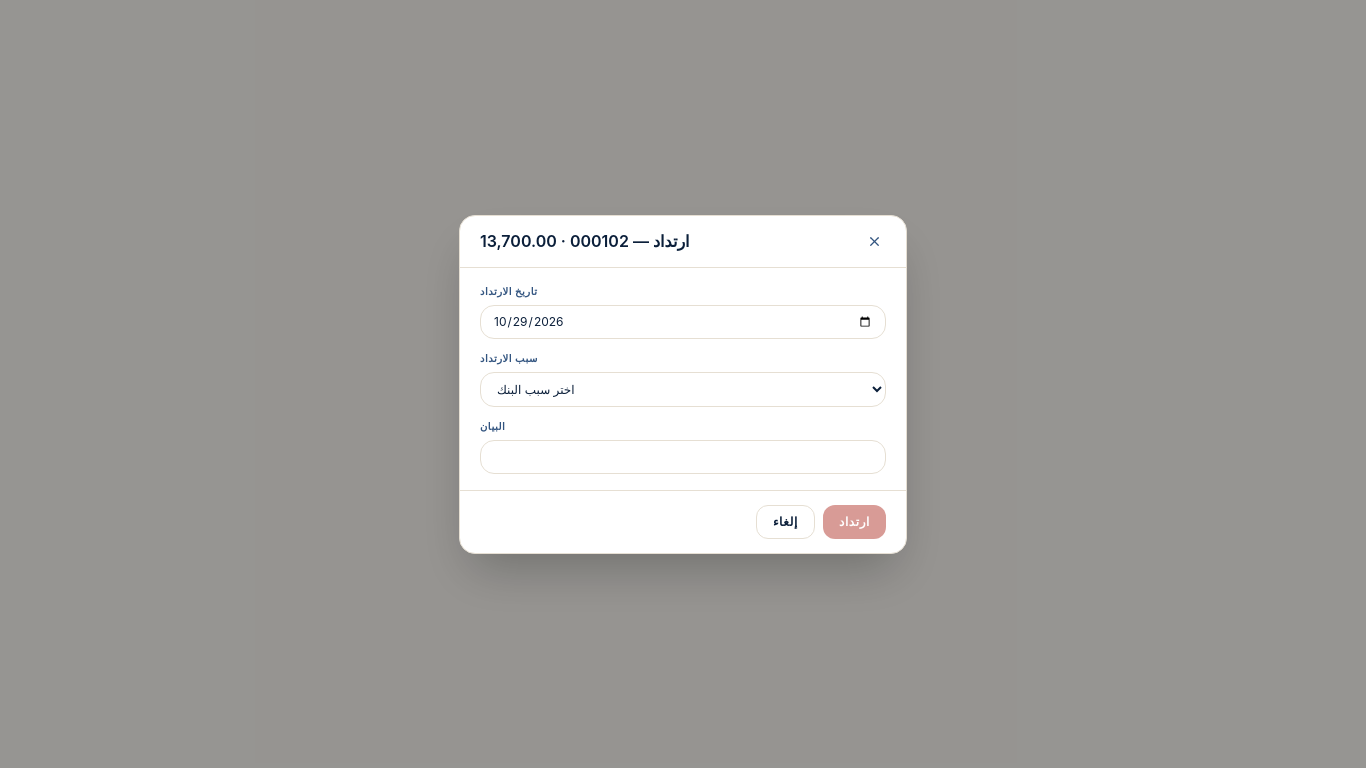
Scenario: BounceChequeDialog › shows the server's coded refusal in Arabic
Select "رصيد غير كافٍ / أخرى" in the dropdown with test id "bounce-failure-reason" at (683,389), box [480,372,886,406]
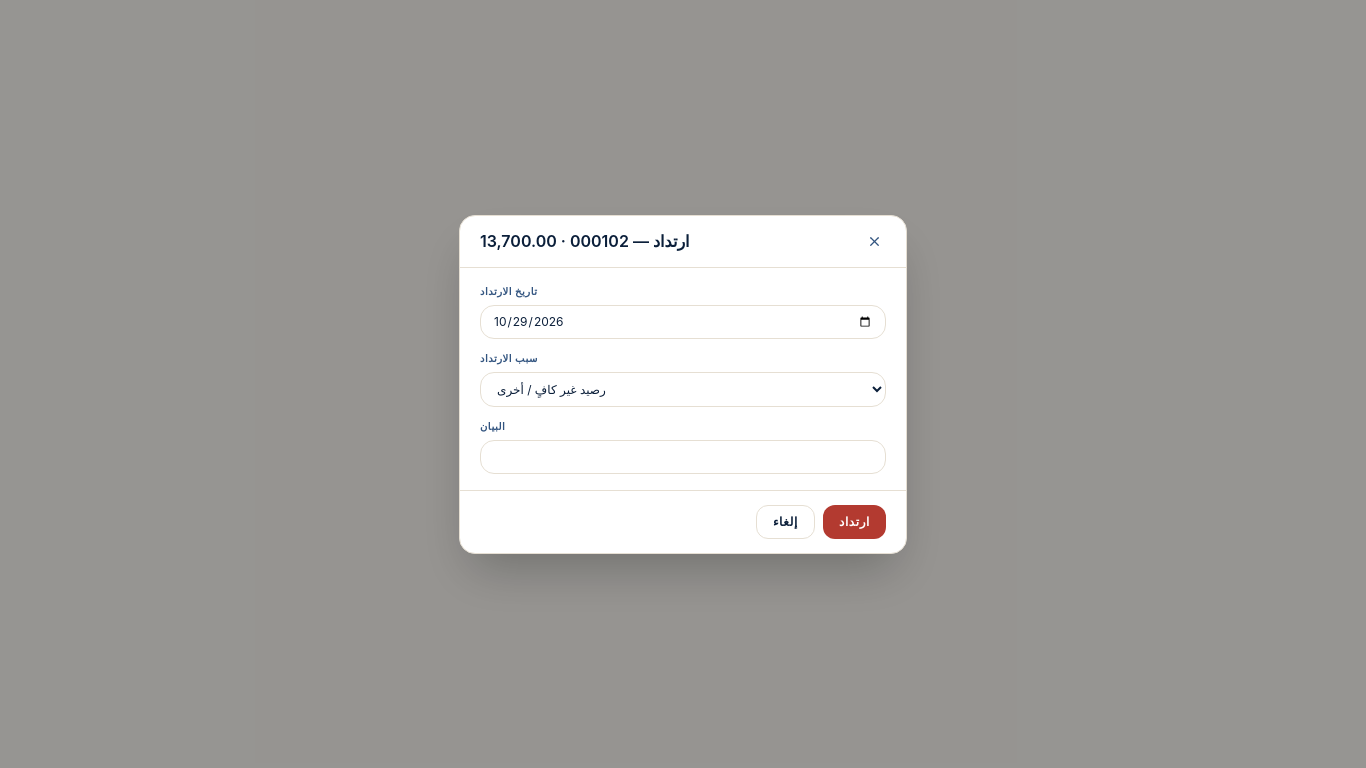
Click the button with test id "cheque-bounce-confirm" at (854,522), box [823,504,886,538]
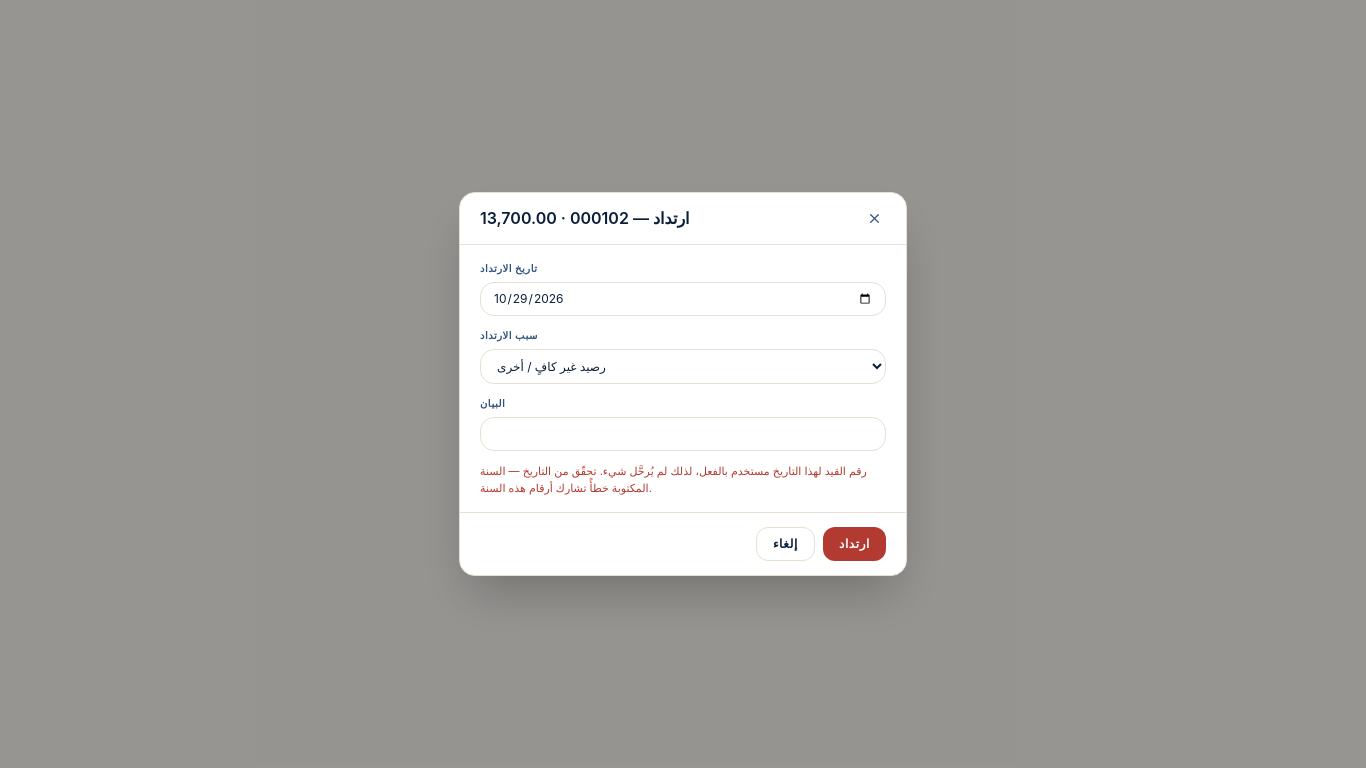
Expected: the text with test id "bounce-error" shows "رقم القيد لهذا التاريخ مستخدم بالفعل", [480,464,867,494]
